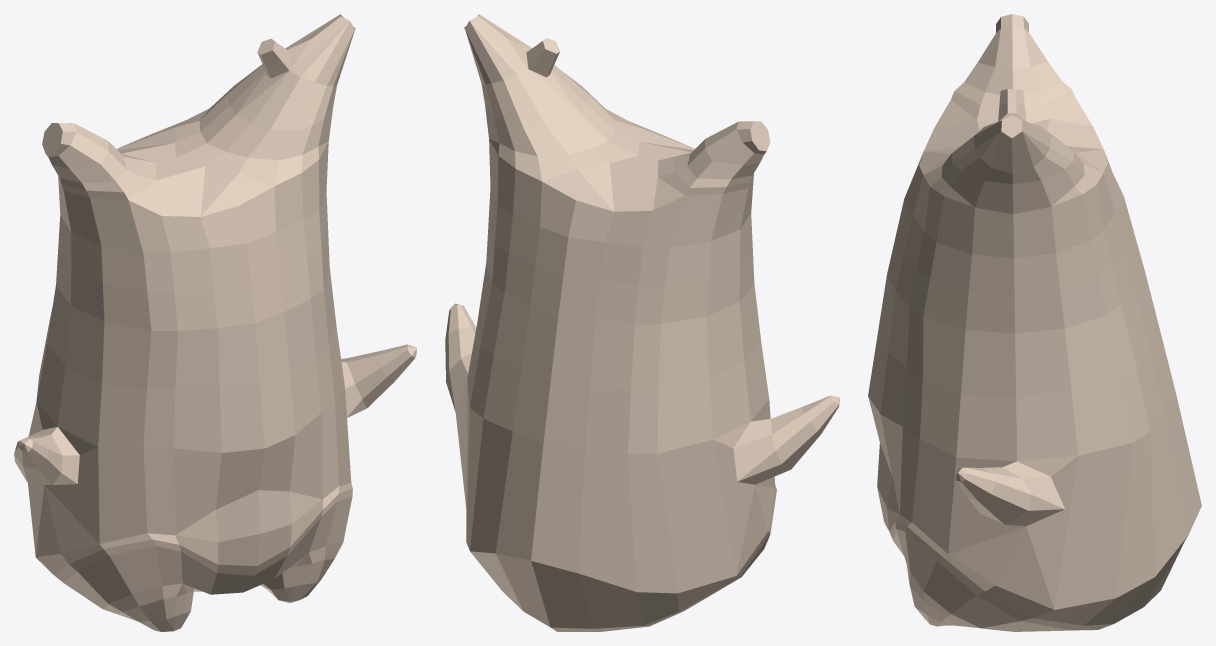
The model's file is frame_0130.obj.
3 views of the same model, side by side, from view 1: azimuth 30°, elevation 25°; view 2: azimuth 150°, elevation 25°; view 3: azimuth 270°, elevation 25° (orthographic). The views are drawn at different scales.
Visible parts, largest first — view 1: korok; view 2: korok; view 3: korok.
Boxes of the visible parts, left/top/right/bottom form: korok: left=14, top=14, right=416, bottom=631; korok: left=445, top=14, right=839, bottom=631; korok: left=868, top=14, right=1201, bottom=631.
Bounding box in the file's own units: 1.47 × 1.96 × 1.04.
